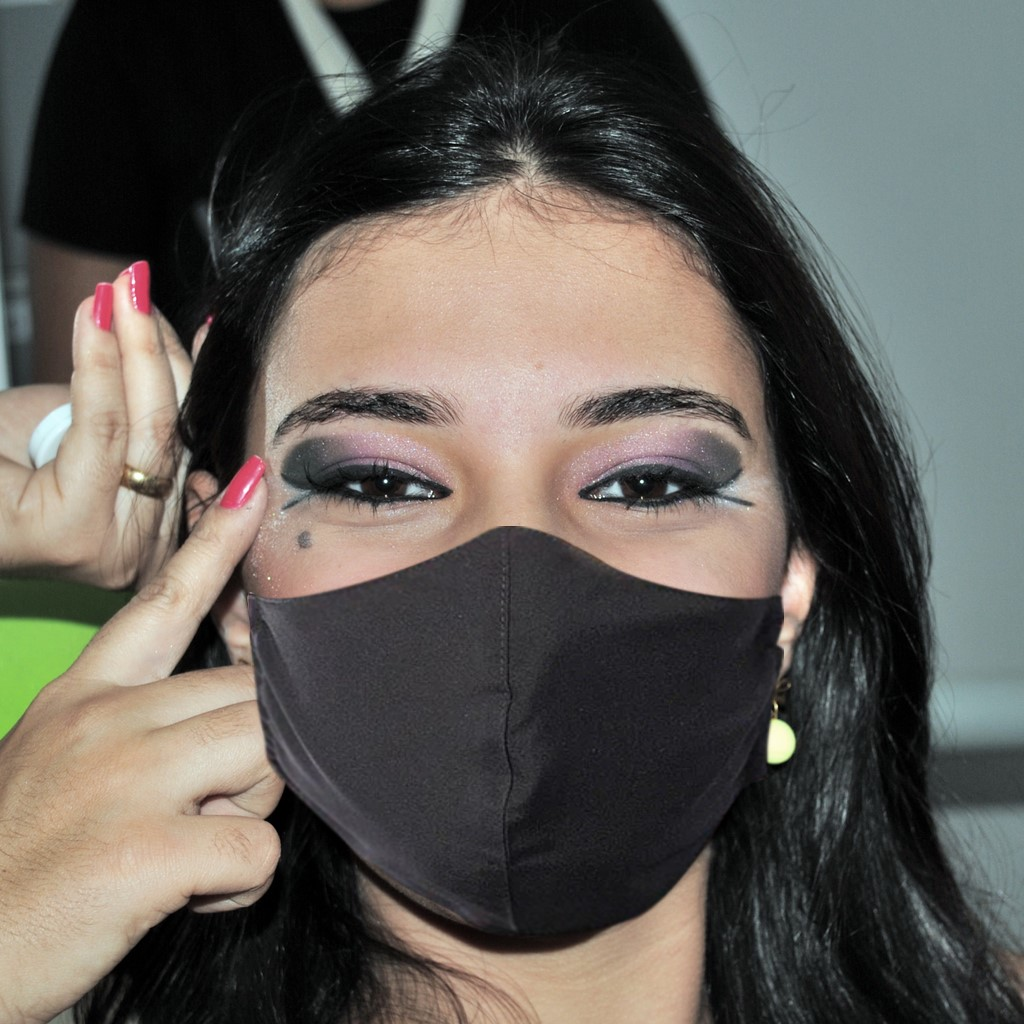con_mascara: (200, 157, 814, 943)
